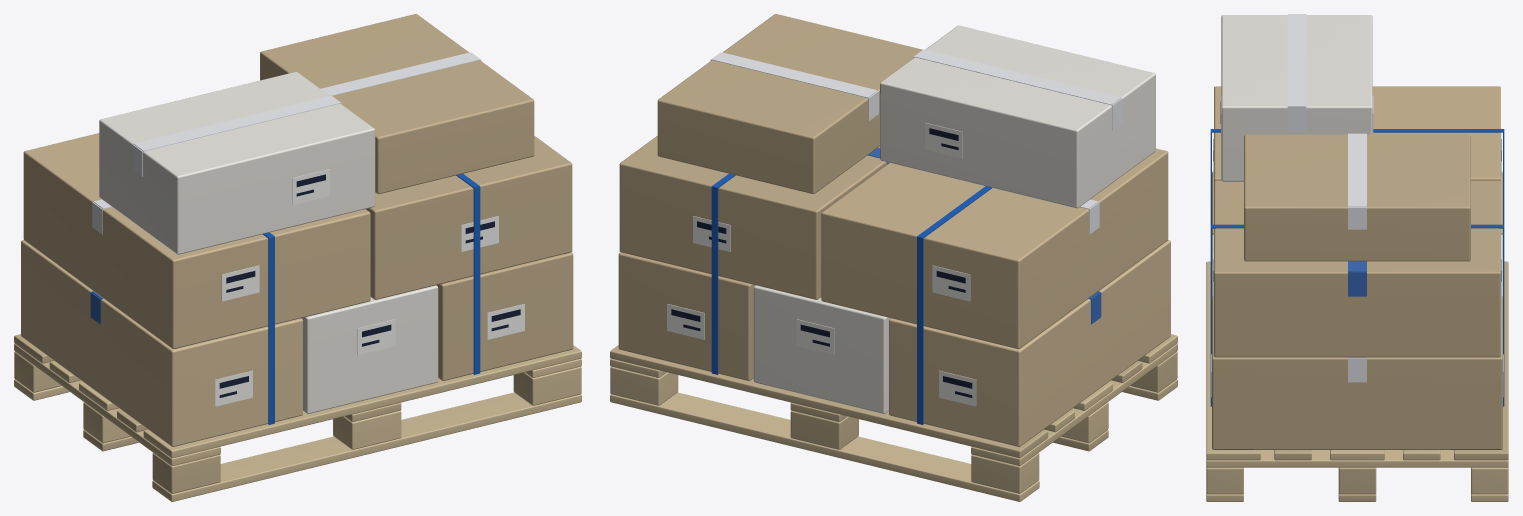
The model's file is pallet_a.glb.
3 views of the same model, side by side, from view 1: azimuth 30°, elevation 25°; view 2: azimuth 150°, elevation 25°; view 3: azimuth 270°, elevation 25° (orthographic). The views are drawn at different scales.
Visible parts, largest first — view 1: pallet_a; view 2: pallet_a; view 3: pallet_a.
Part boxes in pixels (box(x1,y1,x2,y2)): pallet_a: box(14, 14, 581, 501); pallet_a: box(610, 14, 1177, 501); pallet_a: box(1206, 14, 1508, 501).
Bounding box in the file's own units: 1.2 × 0.8855 × 0.8.
